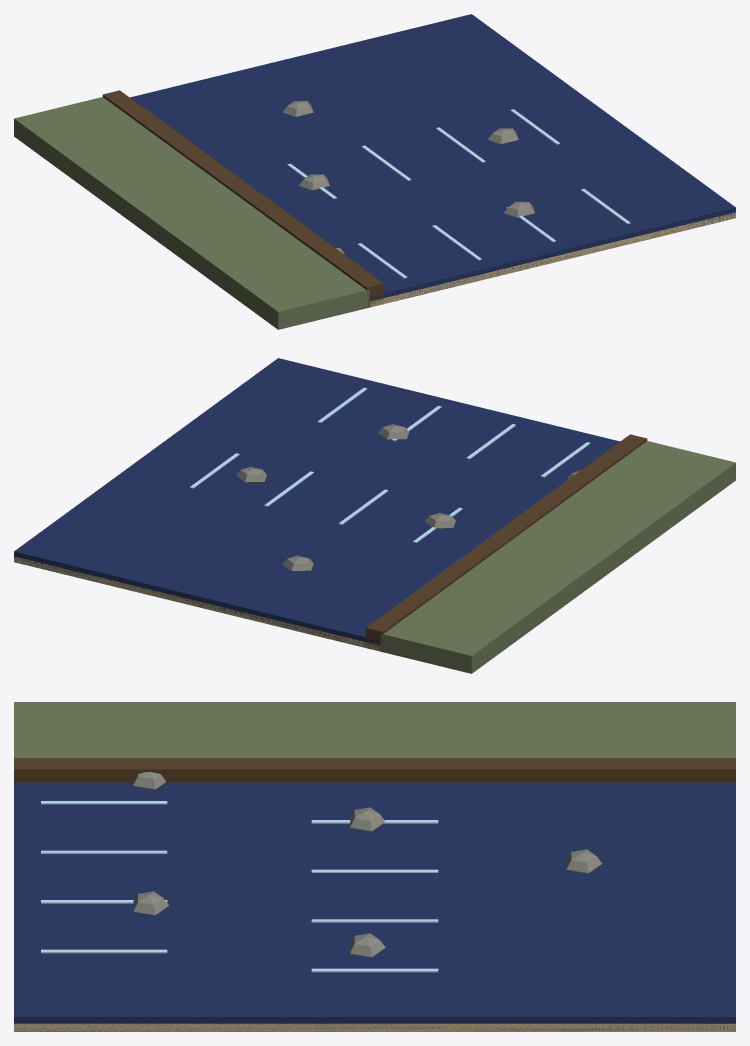
The model's file is terrain_tile_stream.glb.
3 renders of one model, top to bottom at view 1: azimuth 30°, elevation 25°; view 2: azimuth 150°, elevation 25°; view 3: azimuth 270°, elevation 25°, orthographic. The views are drawn at different scales.
Parts seen in each view (by area): view 1: terrain_tile_stream; view 2: terrain_tile_stream; view 3: terrain_tile_stream.
Part boxes in pixels (<box>): terrain_tile_stream: <box>14,14,735,329</box>; terrain_tile_stream: <box>14,358,735,673</box>; terrain_tile_stream: <box>14,702,735,1031</box>.
Bounding box in the file's own units: 8 × 0.34 × 8.
